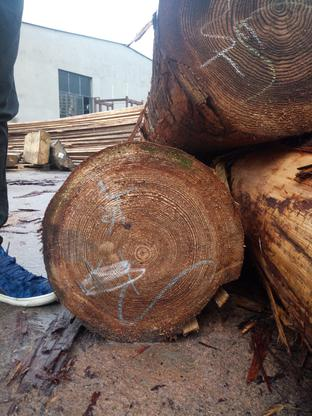mood: (44, 142, 244, 342)
